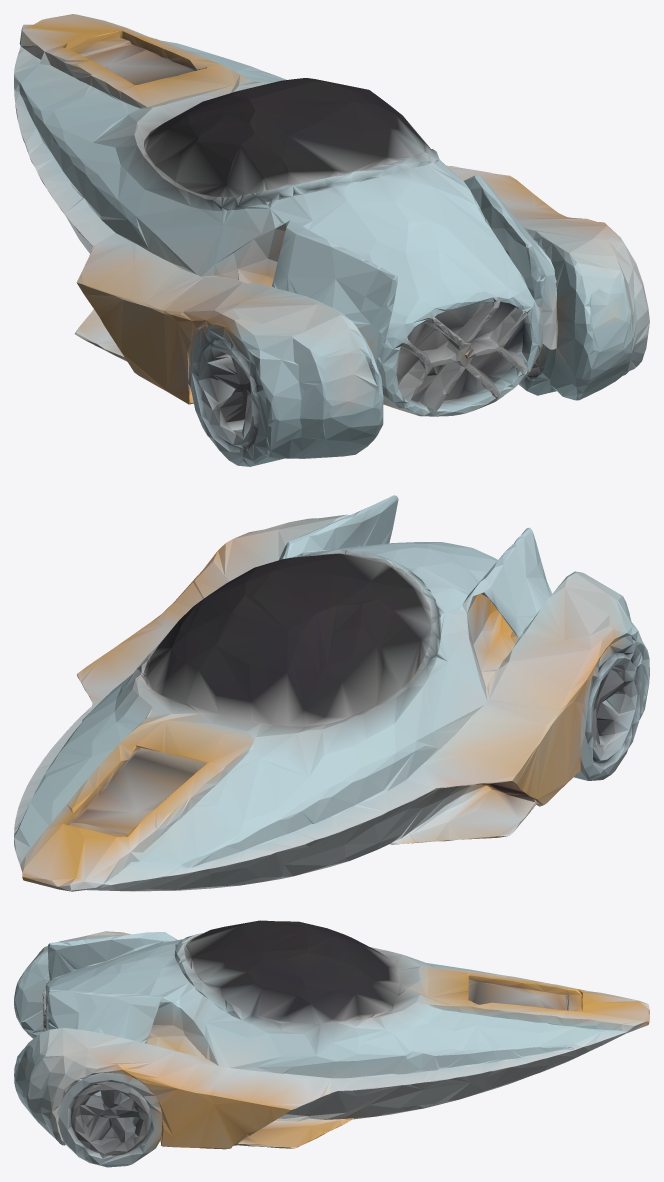
The model's file is aero_lo.glb.
3 views of the same model, one above another, from view 1: azimuth 30°, elevation 25°; view 2: azimuth 150°, elevation 25°; view 3: azimuth 270°, elevation 25° (orthographic). The views are drawn at different scales.
Visible parts, largest first — view 1: geometry_0; view 2: geometry_0; view 3: geometry_0.
Part boxes in pixels (x1=…): geometry_0: x1=14, y1=14, x2=649, y2=466; geometry_0: x1=14, y1=495, x2=649, y2=891; geometry_0: x1=14, y1=920, x2=649, y2=1167.
Size of the model in its own units: 5.12 by 2.57 by 9.
